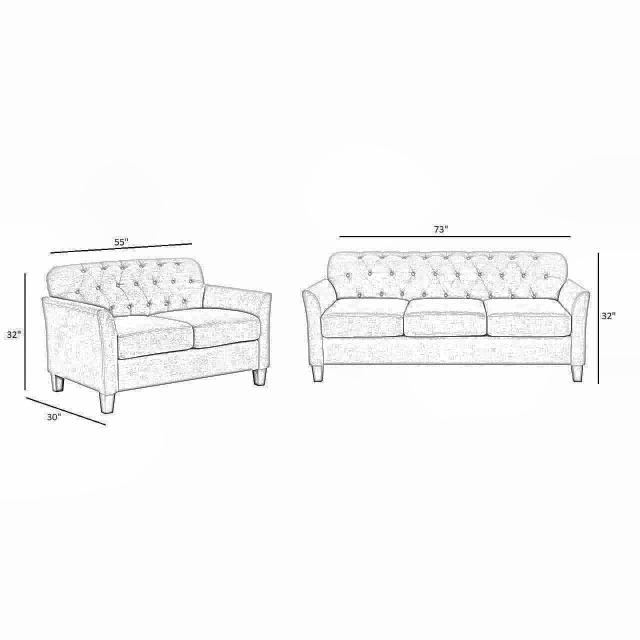sofa: (302, 250, 590, 384), (41, 256, 271, 414)
